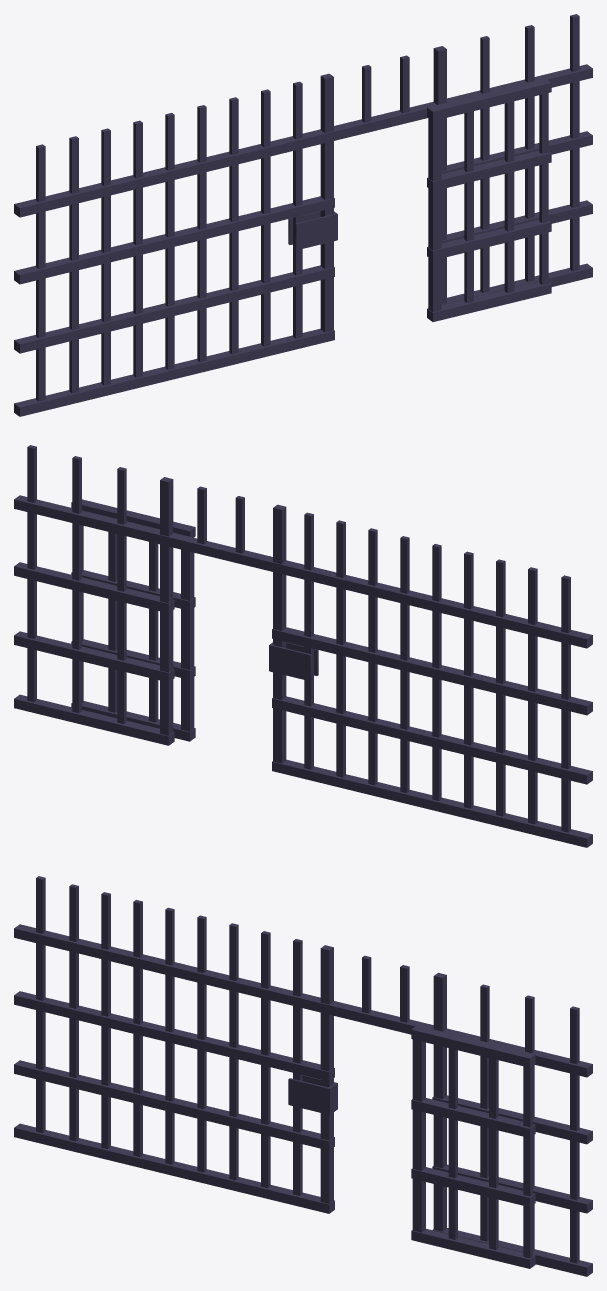
File: realdeathcage2.FBX
3 renders of one model, top to bottom at view 1: azimuth 30°, elevation 25°; view 2: azimuth 150°, elevation 25°; view 3: azimuth 330°, elevation 25°, orthographic.
Parts seen in each view (by area): view 1: Group001, Box001, Box015, Box017, Box016, Box002, Box023, Box012, Box028, Box024, Box027, Box030 (+10 smaller); view 2: Group001, Box001, Box015, Box017, Box016, Box003, Box002, Box023, Box011, Box012, Box028, Box024 (+10 smaller); view 3: Group001, Box001, Box015, Box017, Box016, Box003, Box002, Box025, Box029, Box026, Box012, Box024 (+10 smaller).
Part boxes in pixels (<box>): Group001: <box>427,78,592,321</box>; Box001: <box>14,64,592,217</box>; Box015: <box>14,263,592,416</box>; Box017: <box>14,196,334,284</box>; Box016: <box>14,265,334,353</box>; Box002: <box>320,73,333,332</box>; Box023: <box>261,89,270,346</box>; Box012: <box>570,14,579,270</box>; Box028: <box>101,128,110,385</box>; Box024: <box>229,97,238,354</box>; Box027: <box>133,120,142,377</box>; Box030: <box>36,144,45,401</box>; Group001: <box>14,499,195,741</box>; Box001: <box>14,495,592,648</box>; Box015: <box>14,694,592,847</box>; Box017: <box>272,627,592,715</box>; Box016: <box>272,696,592,784</box>; Box003: <box>160,477,173,735</box>; Box002: <box>273,504,286,763</box>; Box023: <box>336,520,345,777</box>; Box011: <box>72,456,81,712</box>; Box012: <box>27,445,36,701</box>; Box028: <box>496,559,505,816</box>; Box024: <box>368,528,377,785</box>; Group001: <box>411,1025,592,1268</box>; Box001: <box>14,924,592,1077</box>; Box015: <box>14,1123,592,1276</box>; Box017: <box>14,991,334,1081</box>; Box016: <box>14,1060,334,1150</box>; Box003: <box>433,972,446,1231</box>; Box002: <box>320,945,333,1203</box>; Box025: <box>197,915,206,1172</box>; Box029: <box>69,884,78,1141</box>; Box026: <box>165,907,174,1164</box>; Box012: <box>570,1006,579,1263</box>; Box024: <box>229,923,238,1180</box>.
Bounding box in the file's own units: 200 × 87.55 × 8.97.
